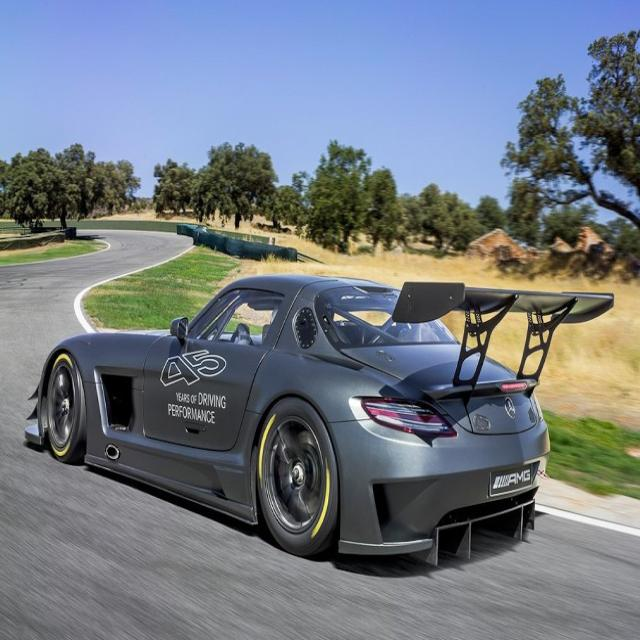back_glass: (316, 280, 458, 355)
back_left_side_light: (358, 390, 456, 442)
front_left_side_door: (139, 270, 306, 458)
front_left_side_mirror: (166, 316, 193, 344)
rear_bumper: (328, 406, 552, 563)
wheel: (261, 397, 329, 542), (46, 351, 86, 458)
